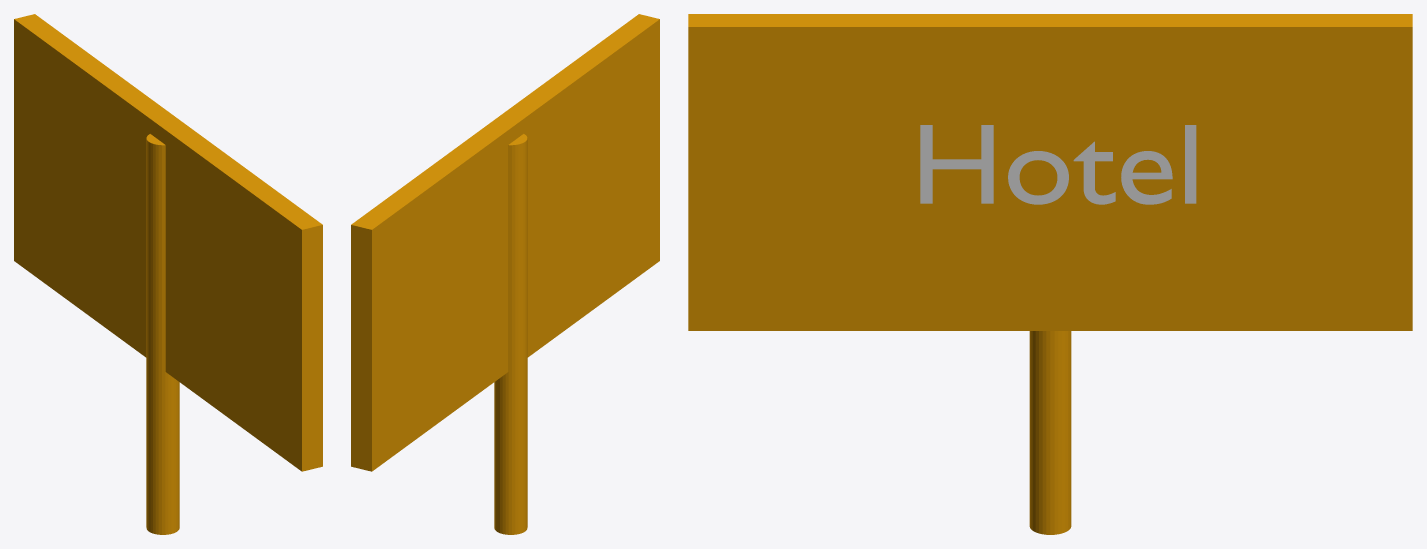
The model's file is Kyltti13.fbx.
3 views of the same model, side by side, from view 1: azimuth 30°, elevation 25°; view 2: azimuth 150°, elevation 25°; view 3: azimuth 270°, elevation 25° (orthographic). The views are drawn at different scales.
Visible parts, largest first — view 1: Kyltti13, Cylinder.012; view 2: Kyltti13, Cylinder.012; view 3: Kyltti13, Cylinder.012, Text.014.
Boxes of the visible parts, box(x1,y1,x2,y2) form: Kyltti13: box(14, 14, 322, 471); Cylinder.012: box(146, 134, 179, 534); Kyltti13: box(351, 14, 659, 471); Cylinder.012: box(494, 134, 527, 534); Kyltti13: box(688, 14, 1412, 330); Cylinder.012: box(1029, 331, 1071, 534); Text.014: box(920, 125, 1196, 204).
Bounding box in the file's own units: 36.68 × 442 × 570.
